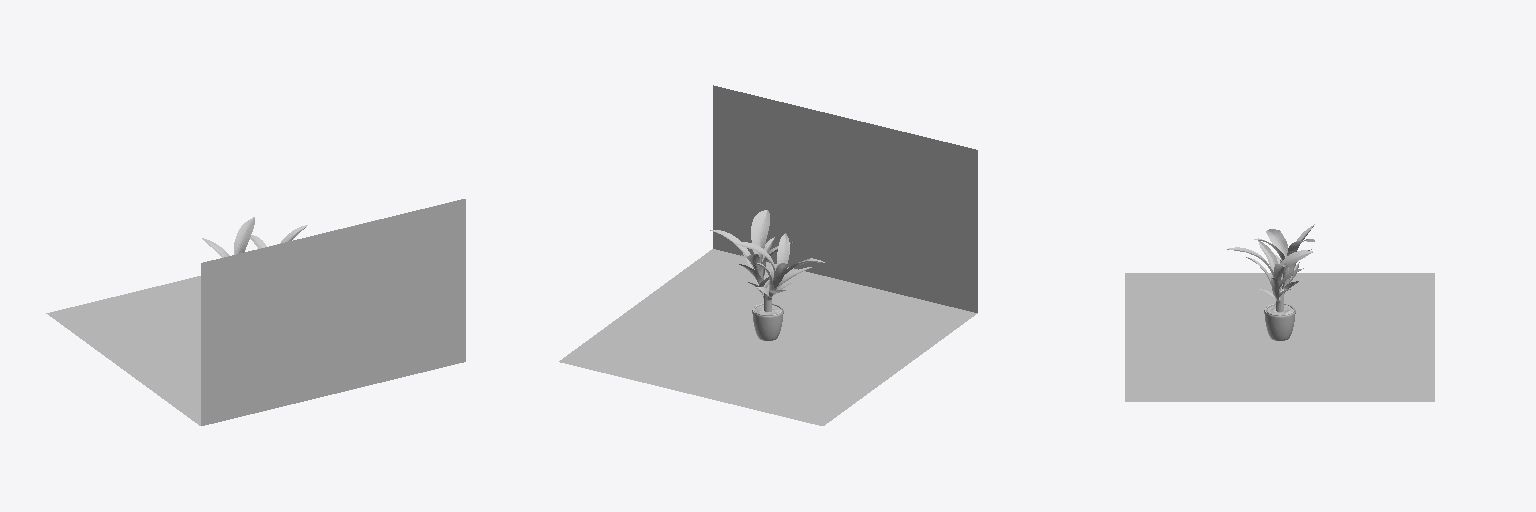
Rendered from indoor plant_03.obj.
3 views of the same model, side by side, from view 1: azimuth 30°, elevation 25°; view 2: azimuth 150°, elevation 25°; view 3: azimuth 270°, elevation 25° (orthographic).
Visible parts, largest first — view 1: Plano, indoor_plant_02; view 2: Plano, indoor_plant_02; view 3: Plano, indoor_plant_02.
Boxes of the visible parts, x1=… form: Plano: x1=46, y1=199, x2=465, y2=425; indoor_plant_02: x1=202, y1=217, x2=307, y2=257; Plano: x1=559, y1=85, x2=977, y2=425; indoor_plant_02: x1=710, y1=210, x2=824, y2=340; Plano: x1=1125, y1=273, x2=1434, y2=401; indoor_plant_02: x1=1227, y1=224, x2=1314, y2=340.
Size of the model in its own units: 16.57 by 9.78 by 16.75.